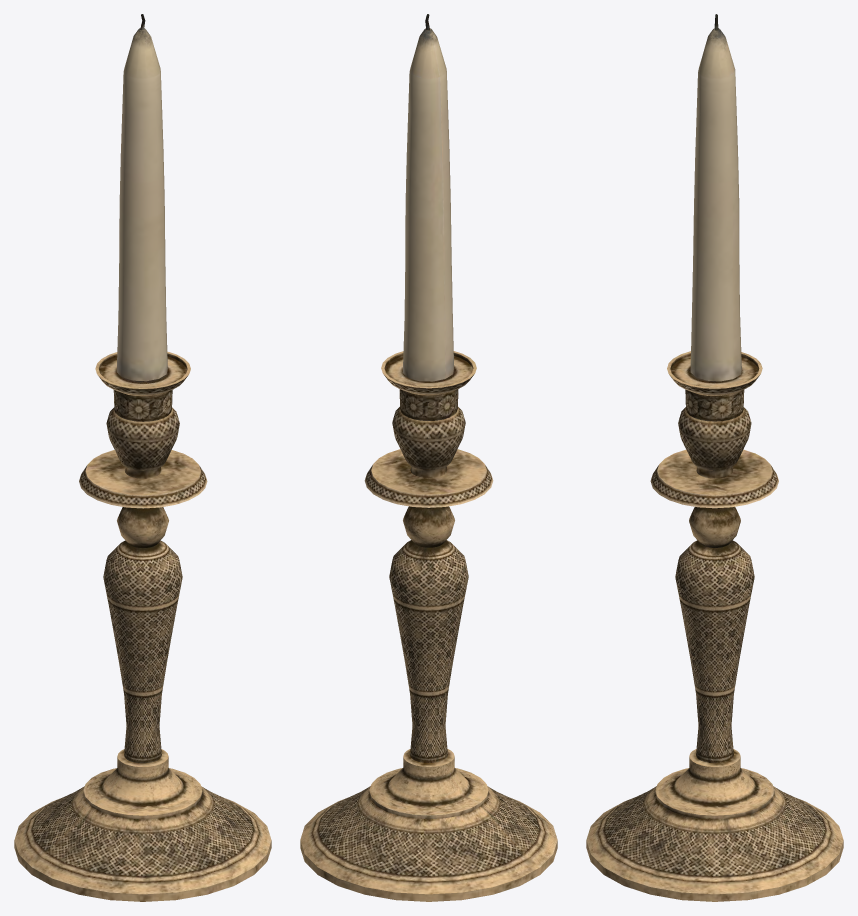
File: brass_candleholders__a.glb
The picture shows the model from 3 angles, left to right: view 1: azimuth 30°, elevation 25°; view 2: azimuth 150°, elevation 25°; view 3: azimuth 270°, elevation 25°; orthographic projection.
Visible parts, largest first — view 1: brass_candleholders_01; view 2: brass_candleholders_01; view 3: brass_candleholders_01.
Boxes of the visible parts, box(x1,y1,x2,y2) form: brass_candleholders_01: box(14, 14, 271, 901); brass_candleholders_01: box(300, 14, 557, 901); brass_candleholders_01: box(586, 14, 843, 901).
Bounding box in the file's own units: 0.0974 × 0.3479 × 0.0974.
1 material, 1 textured.
